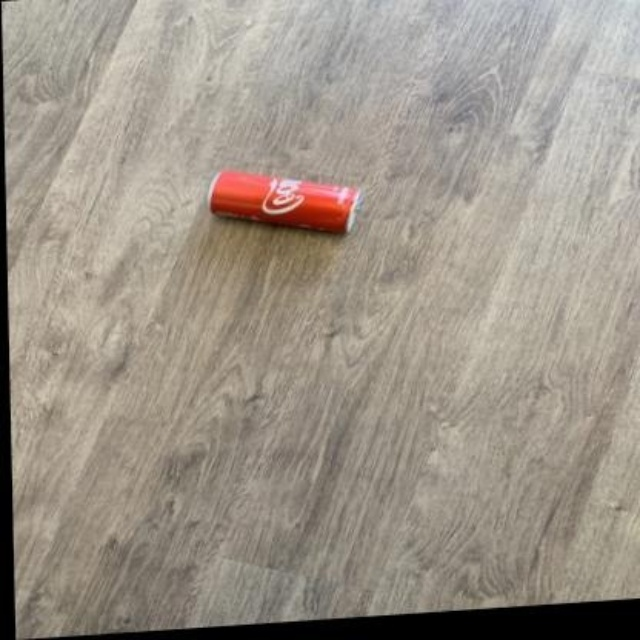trash: (209, 172, 358, 231)
